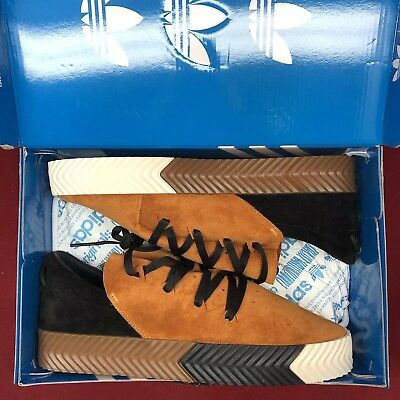adidas AW Skate Sand: (32, 233, 366, 400), (42, 141, 369, 289)
